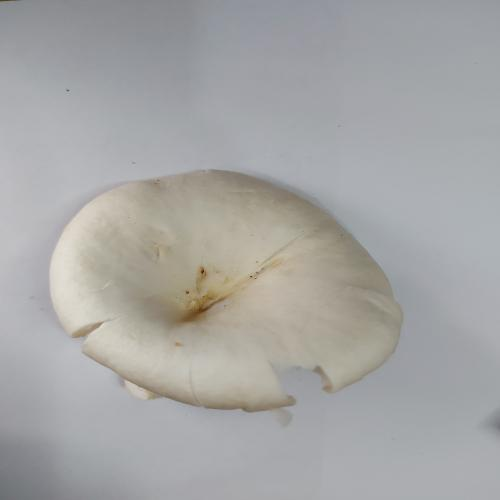Oyster Mushroom: (48, 167, 404, 413)
